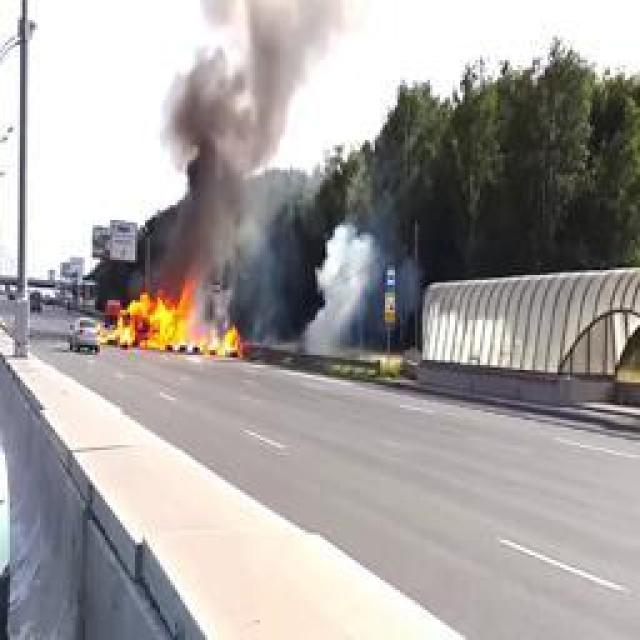Fire: (105, 282, 243, 358)
